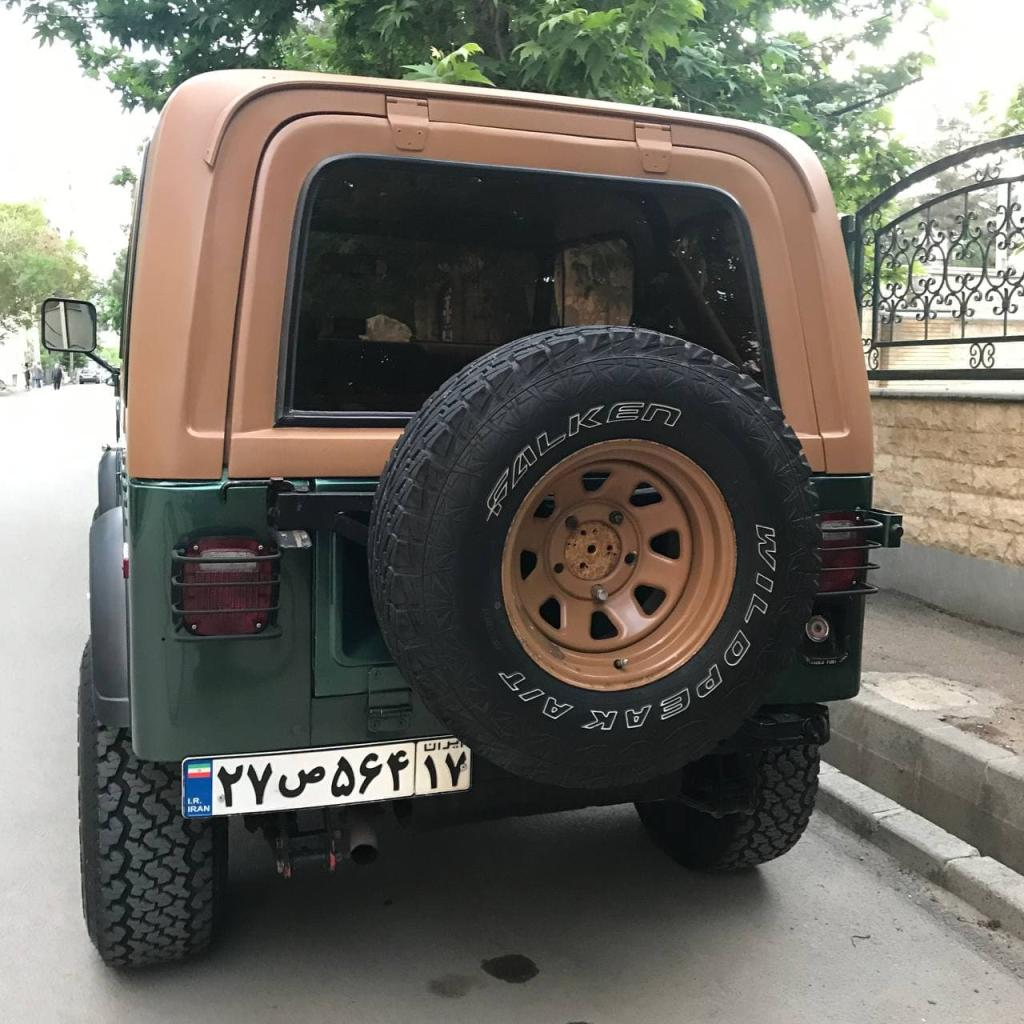Plates: (183, 734, 472, 816)
